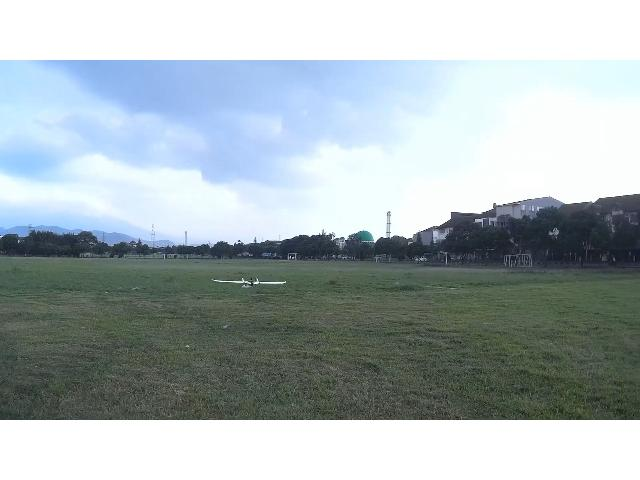Anti-Drone: (204, 268, 288, 301)
